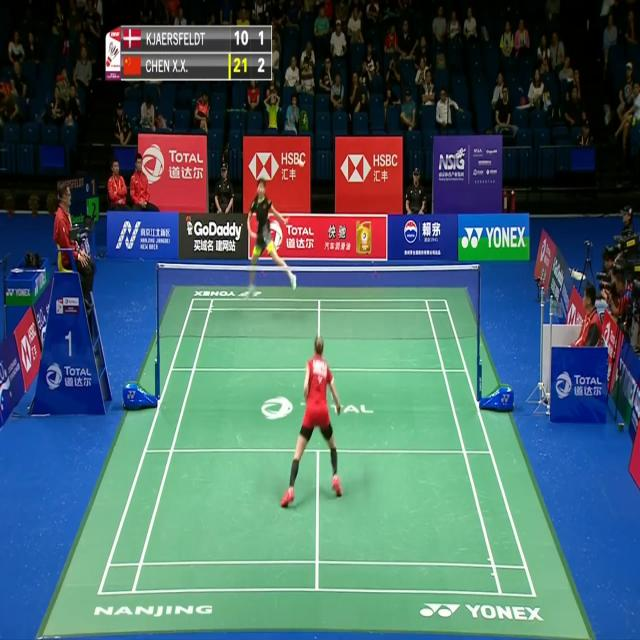Player1: (279, 329, 351, 516)
Player2: (244, 174, 300, 310)
